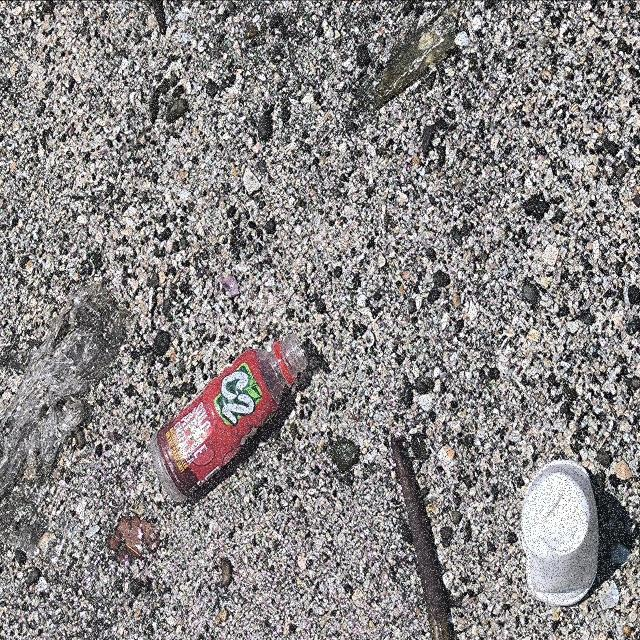plastic_waste: (150, 332, 311, 505)
styrofoam_waste: (520, 459, 602, 609)
